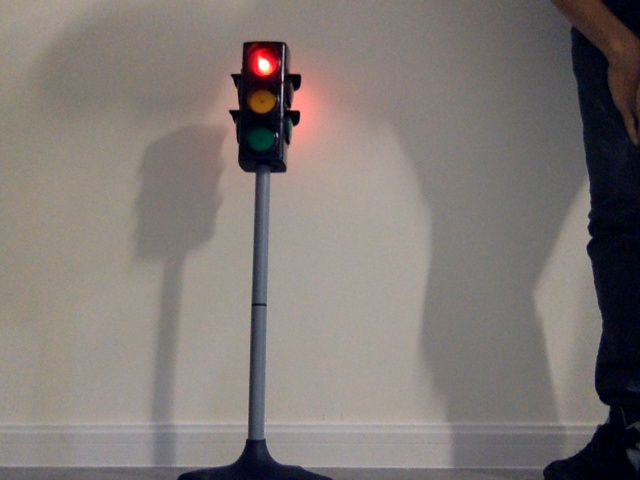red: (245, 44, 278, 155)
